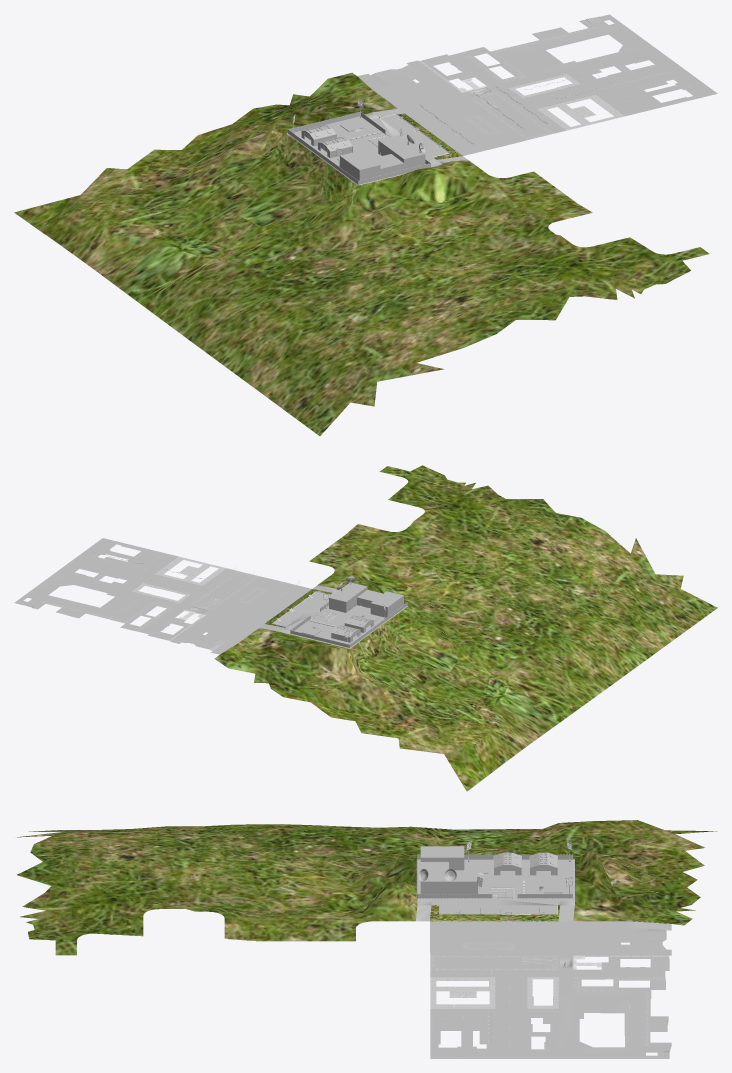
3 views of the same model, one above another, from view 1: azimuth 30°, elevation 25°; view 2: azimuth 150°, elevation 25°; view 3: azimuth 270°, elevation 25° (orthographic). The views are drawn at different scales.
Parts seen in each view (by area): view 1: Roads_026, MilitaryBuilding, MilitaryGround, MilitaryZabor; view 2: Roads_026, MilitaryGround, MilitaryBuilding, MilitaryZabor; view 3: Roads_026, MilitaryGround, MilitaryBuilding, MilitaryZabor, Angar__1_, Angar.
Part boxes in pixels (x1,y1,x2,y2): Roads_026: (14,14,717,435); MilitaryBuilding: (339,135,425,180); MilitaryGround: (287,114,447,185); MilitaryZabor: (287,112,430,185); Roads_026: (14,465,717,791); MilitaryGround: (272,592,385,648); MilitaryBuilding: (329,582,403,617); MilitaryZabor: (290,576,407,648); Roads_026: (17,820,717,1058); MilitaryGround: (417,859,574,914); MilitaryBuilding: (420,846,477,893); MilitaryZabor: (416,854,573,898); Angar__1_: (493,852,521,875); Angar: (529,852,557,875).
Bounding box in the file's own units: 82522 × 13614 × 79267.
